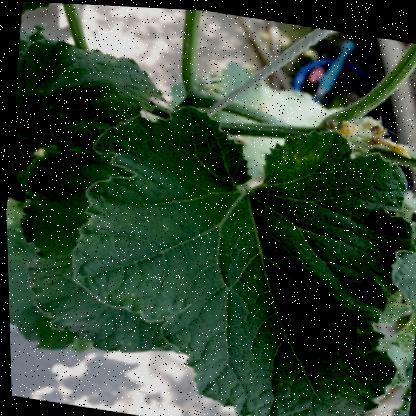Normal: (46, 84, 415, 415)
